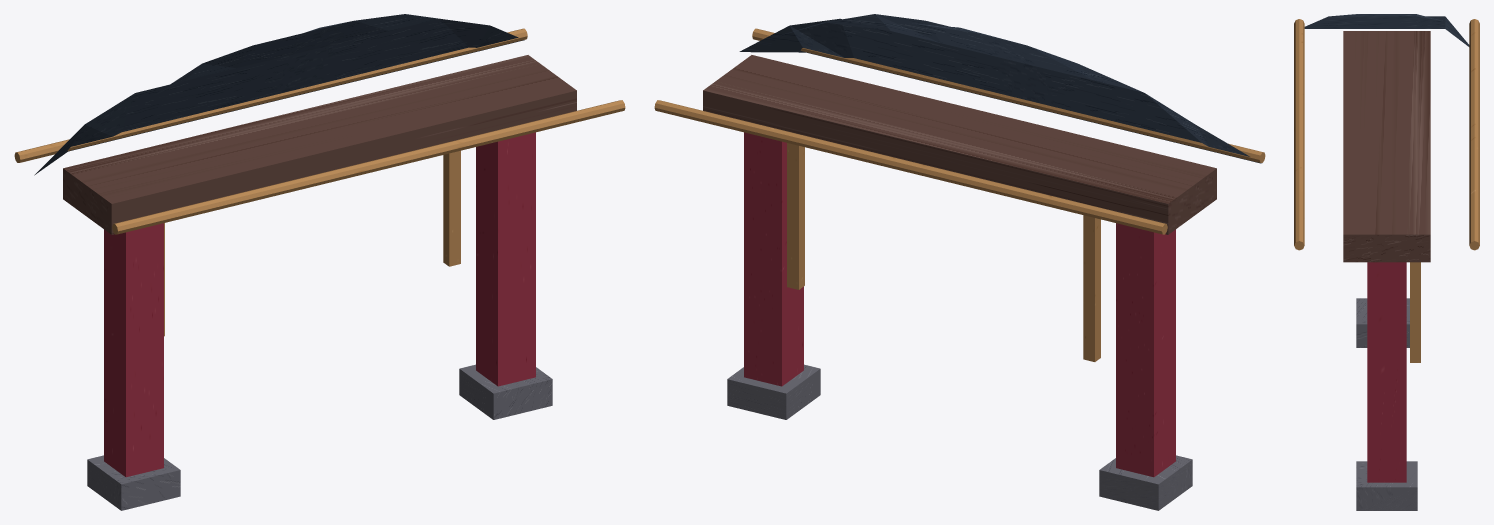
Rendered from shogun_citadel_gate_lod0.glb.
3 renders of one model, left to right at view 1: azimuth 30°, elevation 25°; view 2: azimuth 150°, elevation 25°; view 3: azimuth 270°, elevation 25°, orthographic. The views are drawn at different scales.
Parts seen in each view (by area): view 1: shogun_citadel_gate_004, shogun_citadel_gate_005, shogun_citadel_gate_000, shogun_citadel_gate_002, shogun_citadel_gate_007, shogun_citadel_gate_006, shogun_citadel_gate_003, shogun_citadel_gate_001, shogun_citadel_gate_009; view 2: shogun_citadel_gate_004, shogun_citadel_gate_005, shogun_citadel_gate_000, shogun_citadel_gate_002, shogun_citadel_gate_006, shogun_citadel_gate_003, shogun_citadel_gate_001, shogun_citadel_gate_007, shogun_citadel_gate_008, shogun_citadel_gate_009; view 3: shogun_citadel_gate_004, shogun_citadel_gate_002, shogun_citadel_gate_006, shogun_citadel_gate_007, shogun_citadel_gate_003, shogun_citadel_gate_005, shogun_citadel_gate_009, shogun_citadel_gate_001.
Part boxes in pixels (<box>): shogun_citadel_gate_004: <box>63,55,576,234</box>; shogun_citadel_gate_005: <box>34,14,524,175</box>; shogun_citadel_gate_000: <box>104,223,163,477</box>; shogun_citadel_gate_002: <box>476,132,535,386</box>; shogun_citadel_gate_007: <box>112,100,625,234</box>; shogun_citadel_gate_006: <box>14,28,527,162</box>; shogun_citadel_gate_003: <box>459,364,552,419</box>; shogun_citadel_gate_001: <box>87,455,180,510</box>; shogun_citadel_gate_009: <box>443,150,460,266</box>; shogun_citadel_gate_004: <box>703,55,1216,234</box>; shogun_citadel_gate_005: <box>739,14,1261,163</box>; shogun_citadel_gate_000: <box>1116,223,1175,477</box>; shogun_citadel_gate_002: <box>744,132,803,386</box>; shogun_citadel_gate_006: <box>654,100,1167,234</box>; shogun_citadel_gate_003: <box>727,364,820,419</box>; shogun_citadel_gate_001: <box>1099,455,1192,510</box>; shogun_citadel_gate_007: <box>752,28,1265,162</box>; shogun_citadel_gate_008: <box>1083,215,1100,361</box>; shogun_citadel_gate_009: <box>787,143,804,289</box>; shogun_citadel_gate_004: <box>1343,31,1430,262</box>; shogun_citadel_gate_002: <box>1367,262,1406,482</box>; shogun_citadel_gate_006: <box>1469,19,1479,250</box>; shogun_citadel_gate_007: <box>1294,19,1304,250</box>; shogun_citadel_gate_003: <box>1356,461,1417,510</box>; shogun_citadel_gate_005: <box>1304,14,1469,46</box>; shogun_citadel_gate_009: <box>1410,262,1420,362</box>; shogun_citadel_gate_001: <box>1356,298,1409,347</box>.
Bounding box in the file's own units: 12 × 9.45 × 4.24.
5 materials, 5 textured.
